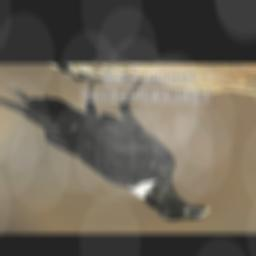Crow: (0, 70, 212, 221)
